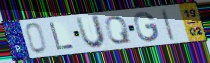0: (24, 21, 50, 55)
G: (132, 11, 160, 43)
I: (159, 8, 176, 42)
L: (48, 21, 76, 52)
Q: (104, 15, 133, 45)
U: (74, 14, 107, 50)
